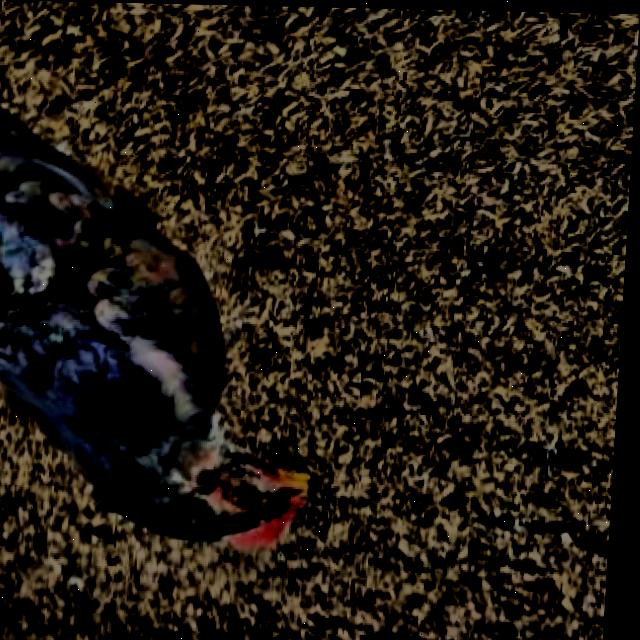Healthy: (205, 478, 282, 511)
